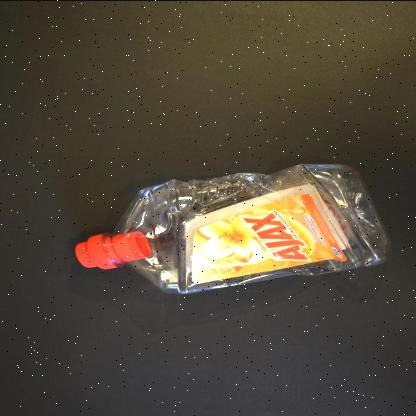Plastic Bottle: (75, 163, 390, 292)
